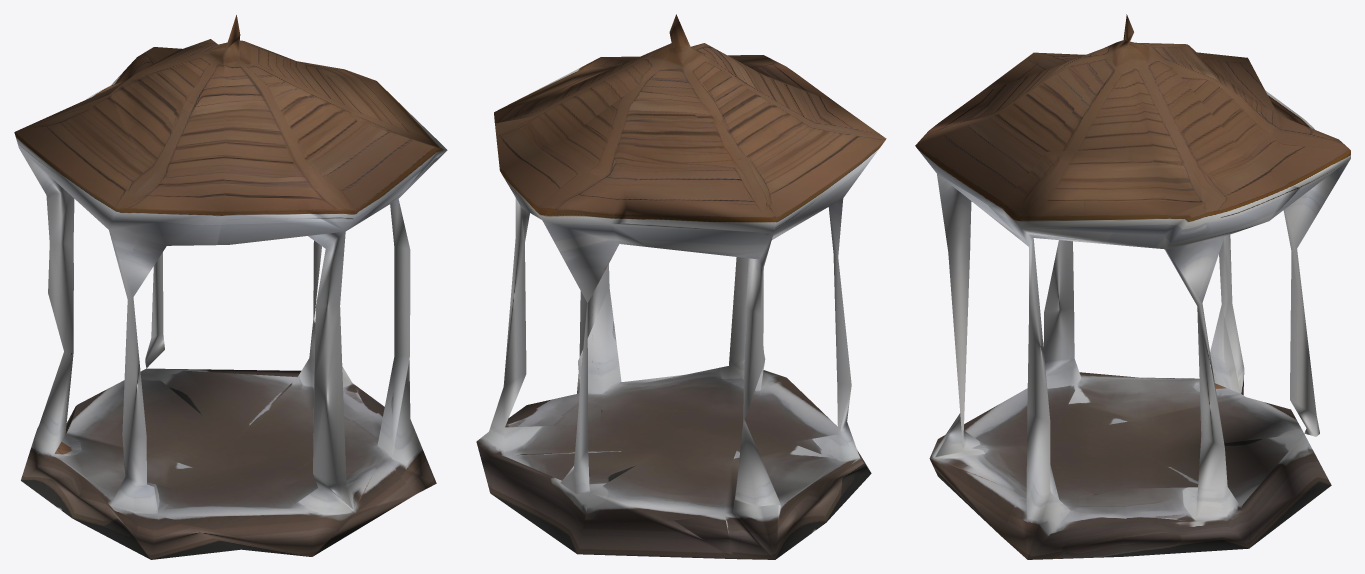
Rendered from gazebo.glb.
3 views of the same model, side by side, from view 1: azimuth 30°, elevation 25°; view 2: azimuth 150°, elevation 25°; view 3: azimuth 270°, elevation 25° (orthographic).
Parts seen in each view (by area): view 1: tripo_node_b34c080e-aa87-4e6e-abe1-9159f8ac241e; view 2: tripo_node_b34c080e-aa87-4e6e-abe1-9159f8ac241e; view 3: tripo_node_b34c080e-aa87-4e6e-abe1-9159f8ac241e.
Boxes of the visible parts, bbox=[...] form: tripo_node_b34c080e-aa87-4e6e-abe1-9159f8ac241e: bbox=[14, 15, 447, 559]; tripo_node_b34c080e-aa87-4e6e-abe1-9159f8ac241e: bbox=[476, 14, 886, 559]; tripo_node_b34c080e-aa87-4e6e-abe1-9159f8ac241e: bbox=[915, 14, 1350, 559].
Size of the model in its own units: 0.7163 by 0.978 by 0.8175.
Materials: 1 (1 with a texture image).
